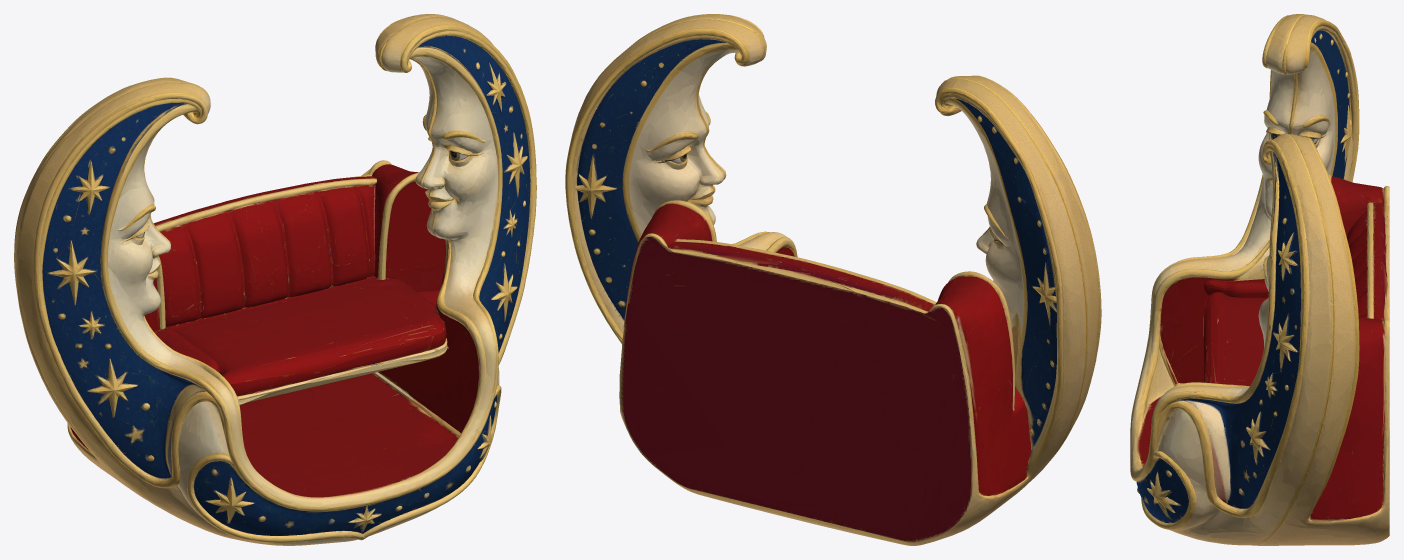
Rendered from moon-loveseat.glb.
3 views of the same model, side by side, from view 1: azimuth 30°, elevation 25°; view 2: azimuth 150°, elevation 25°; view 3: azimuth 270°, elevation 25° (orthographic). The views are drawn at different scales.
Size of the model in its own units: 1.9 by 1.59 by 0.8783.
Materials: 1 (1 with a texture image).
